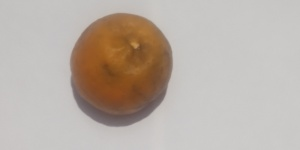BAD: (69, 14, 172, 118)
